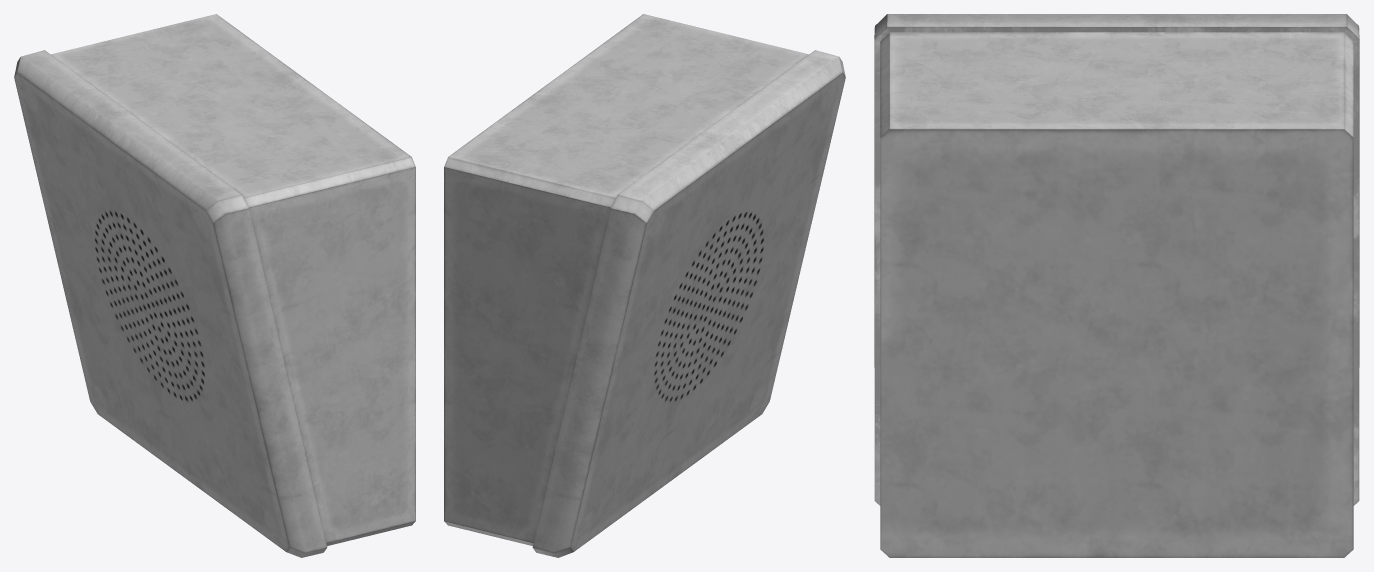
File: SM_Classroom_03.fbx
3 renders of one model, left to right at view 1: azimuth 30°, elevation 25°; view 2: azimuth 150°, elevation 25°; view 3: azimuth 270°, elevation 25°, orthographic. The views are drawn at different scales.
Parts seen in each view (by area): view 1: SM_Classroom_03; view 2: SM_Classroom_03; view 3: SM_Classroom_03.
Part boxes in pixels (x1,y1,x2,y2): SM_Classroom_03: [14, 14, 415, 557]; SM_Classroom_03: [444, 14, 845, 557]; SM_Classroom_03: [874, 14, 1359, 557].
Size of the model in its own units: 10.37 by 18.47 by 18.46.
Materials: 1 (1 with a texture image).
